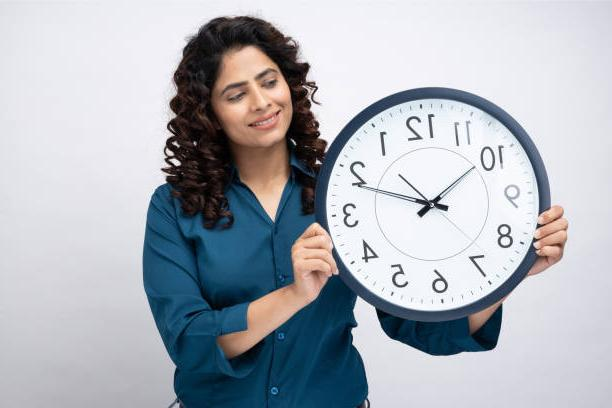clock: (309, 86, 548, 332)
